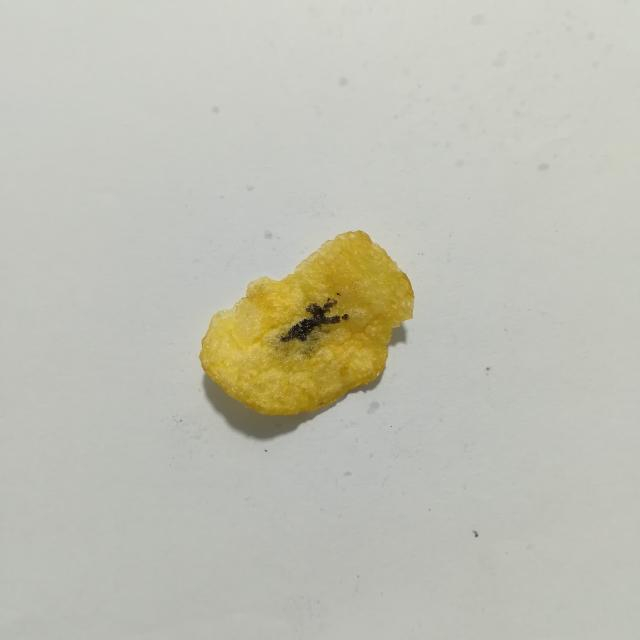chip: (200, 231, 414, 415)
damaged: (280, 298, 348, 342)
semi-damaged: (271, 327, 330, 357)
